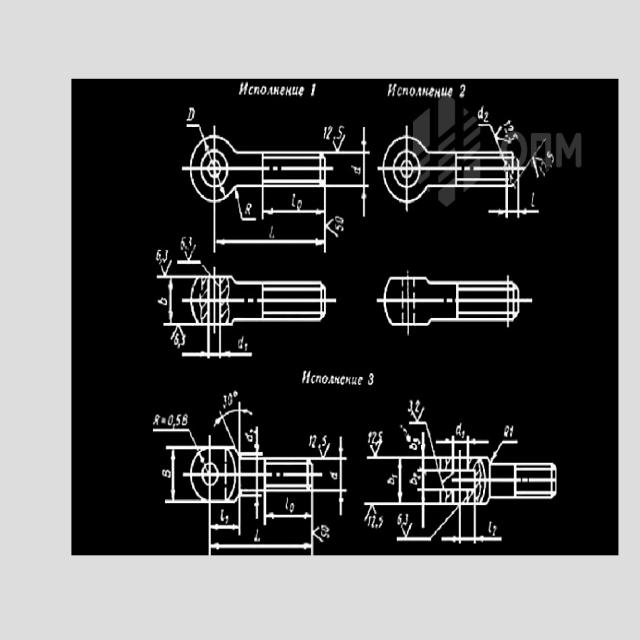marking_line: (213, 205, 328, 254), (206, 505, 314, 556), (328, 125, 369, 219), (363, 456, 422, 506), (175, 328, 255, 361), (440, 506, 503, 545), (260, 187, 329, 222), (396, 506, 457, 543), (156, 273, 189, 327), (213, 401, 254, 444), (262, 493, 311, 525), (488, 189, 540, 218), (164, 444, 189, 503), (328, 184, 370, 219), (325, 123, 368, 157), (206, 504, 244, 537), (435, 434, 490, 455), (473, 506, 502, 545), (314, 485, 347, 516), (313, 435, 349, 461), (410, 421, 435, 456), (528, 139, 548, 180), (151, 427, 196, 445), (517, 182, 539, 218), (477, 122, 504, 151), (440, 506, 461, 543), (488, 188, 510, 220), (234, 191, 257, 220), (177, 257, 212, 275), (493, 438, 519, 461), (184, 121, 205, 139), (247, 425, 261, 452), (396, 459, 403, 501), (204, 139, 209, 152), (221, 185, 226, 197)
numeric: (363, 506, 378, 522), (454, 421, 462, 438), (548, 150, 556, 164), (180, 235, 187, 251), (459, 83, 466, 98), (326, 125, 333, 140), (509, 422, 516, 437), (367, 373, 375, 386), (538, 166, 546, 179), (504, 124, 515, 133), (181, 413, 188, 427), (162, 249, 169, 263), (311, 434, 317, 450), (227, 391, 233, 407), (175, 412, 181, 428), (167, 413, 175, 425), (407, 399, 414, 412), (542, 159, 549, 172), (415, 398, 421, 413), (413, 472, 422, 481), (321, 524, 330, 533), (335, 216, 344, 225), (335, 224, 345, 232), (156, 249, 162, 262), (181, 333, 187, 346), (509, 134, 519, 141), (321, 531, 331, 538), (504, 119, 512, 127), (372, 430, 376, 445), (484, 111, 489, 123), (175, 333, 180, 345), (378, 430, 382, 444), (311, 82, 315, 96), (308, 434, 312, 447), (367, 430, 371, 443), (189, 234, 193, 247), (223, 394, 226, 409), (323, 126, 326, 140)
special_symbol: (157, 259, 173, 275), (326, 217, 338, 238), (412, 408, 425, 422), (184, 245, 196, 260), (400, 522, 412, 537), (318, 441, 329, 457), (314, 525, 322, 543), (498, 125, 506, 143), (370, 442, 381, 455), (160, 416, 167, 425), (234, 390, 239, 398)
